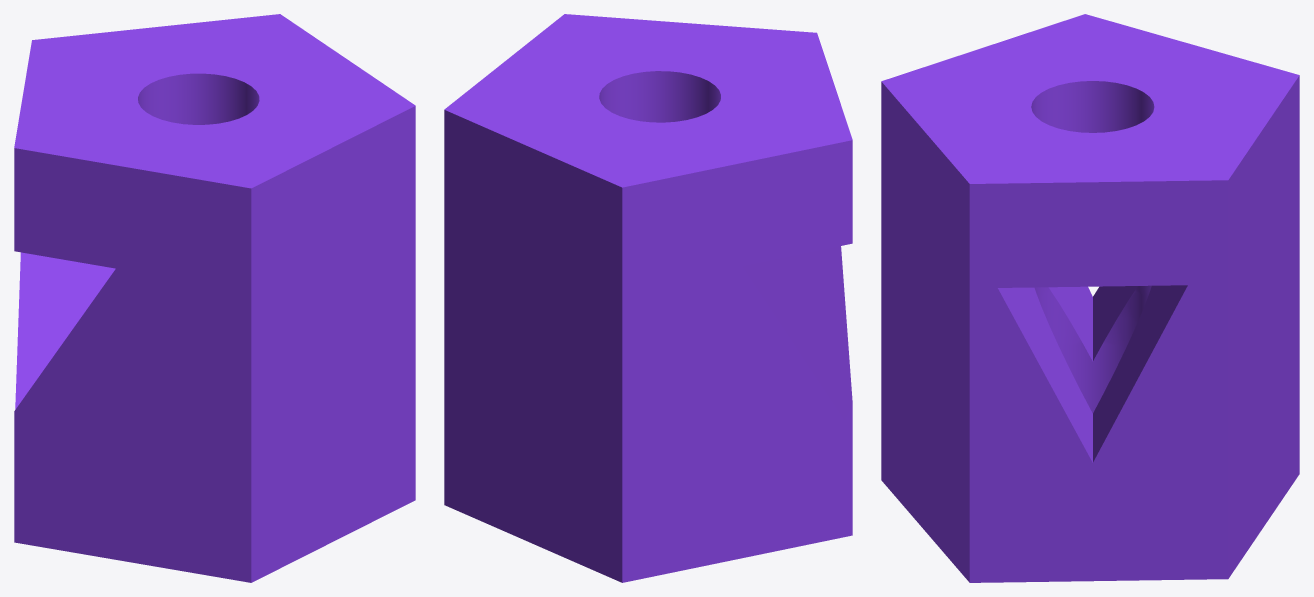
Rendered from var_4.glb.
The picture shows the model from 3 angles, left to right: view 1: azimuth 30°, elevation 25°; view 2: azimuth 150°, elevation 25°; view 3: azimuth 270°, elevation 25°; orthographic projection.
Visible parts, largest first — view 1: Cylinder.004; view 2: Cylinder.004; view 3: Cylinder.004.
Boxes of the visible parts, x1,y1,x2,y2 form: Cylinder.004: (14,14,415,582); Cylinder.004: (444,14,852,582); Cylinder.004: (881,14,1299,582).
Size of the model in its own units: 1.83 by 2 by 1.9.
